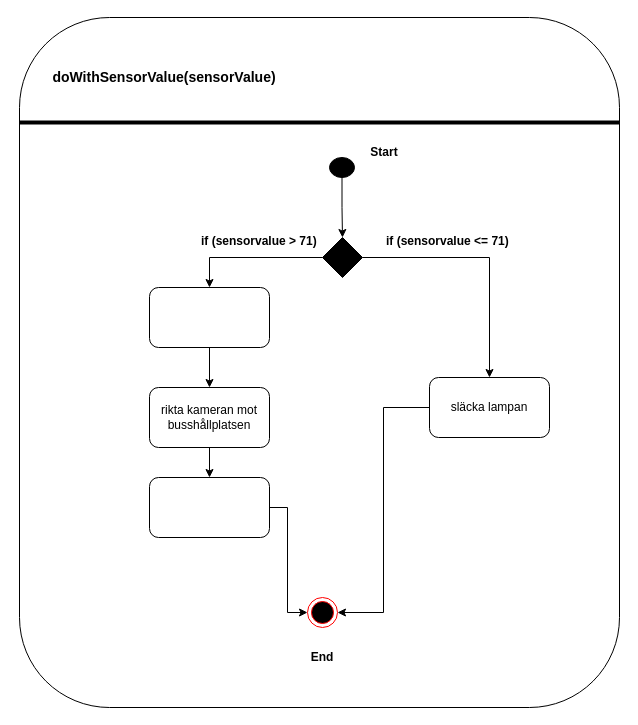
The diagram is 638 pixels wide and 725 high, and some of its shapes have lost their labels. The box of each missing label's shape, as (x1, y1, x2, y2) in pixels:
börja spela in en video och sända den till FTP server: (148, 476, 270, 538)
Tända lampan: (148, 286, 270, 348)
